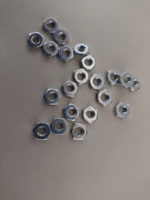nut: (33, 122, 51, 141), (61, 80, 79, 98), (51, 118, 68, 135), (71, 123, 88, 140), (44, 88, 61, 105), (73, 68, 90, 85), (83, 106, 99, 124), (27, 32, 45, 48), (87, 75, 106, 90), (114, 102, 131, 118), (97, 89, 113, 106), (58, 46, 75, 62), (64, 105, 80, 121), (43, 41, 59, 57), (107, 70, 122, 87), (43, 18, 60, 33), (120, 71, 134, 89), (55, 29, 70, 45), (80, 56, 96, 70), (75, 43, 90, 57), (131, 75, 141, 92)
